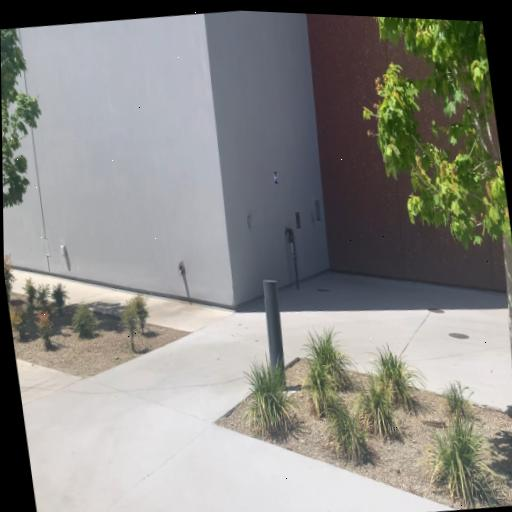target3: (274, 172, 279, 184)
